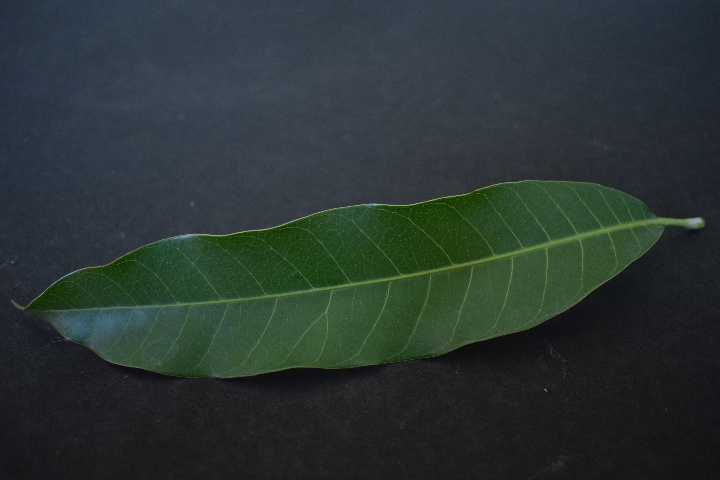healthy: (47, 172, 653, 370)
